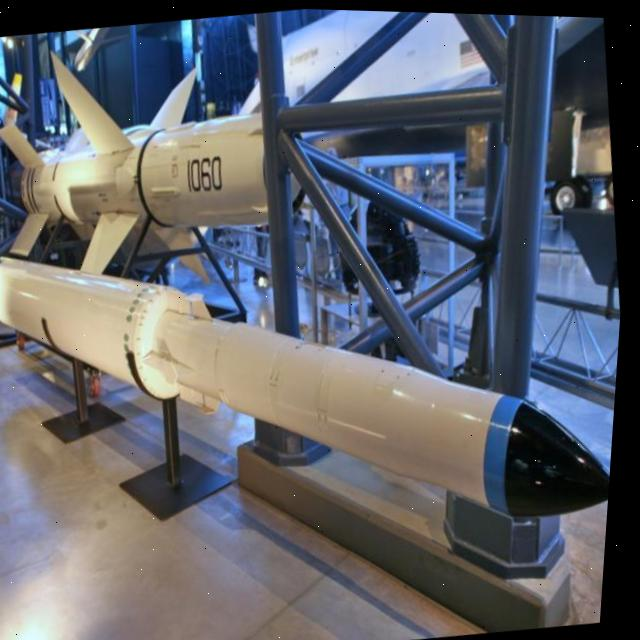missile: (0, 181, 631, 594), (0, 21, 318, 294)
